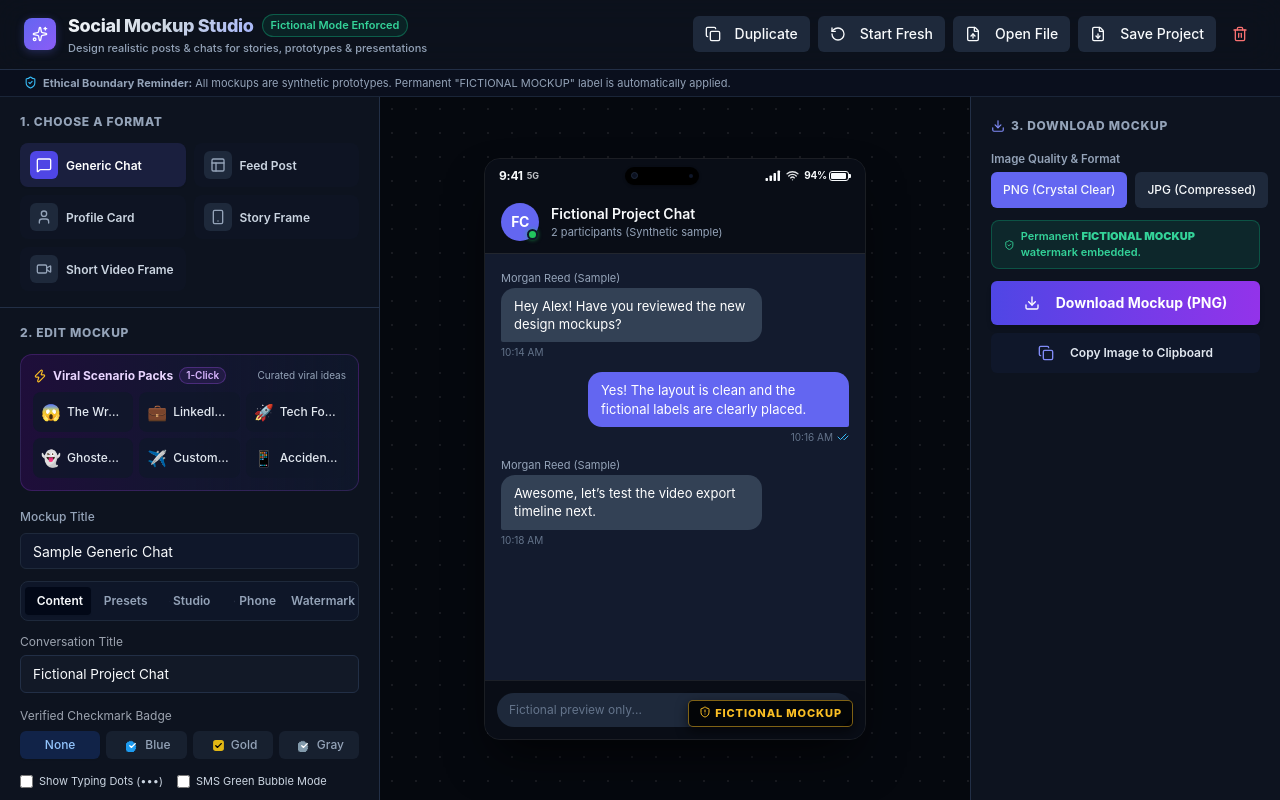
Test: Social Mockup Studio App › switches to Feed Post template in the gallery
The image size is (1280, 800).
Click the button "Feed Post": (276, 165) [194,143,359,187]
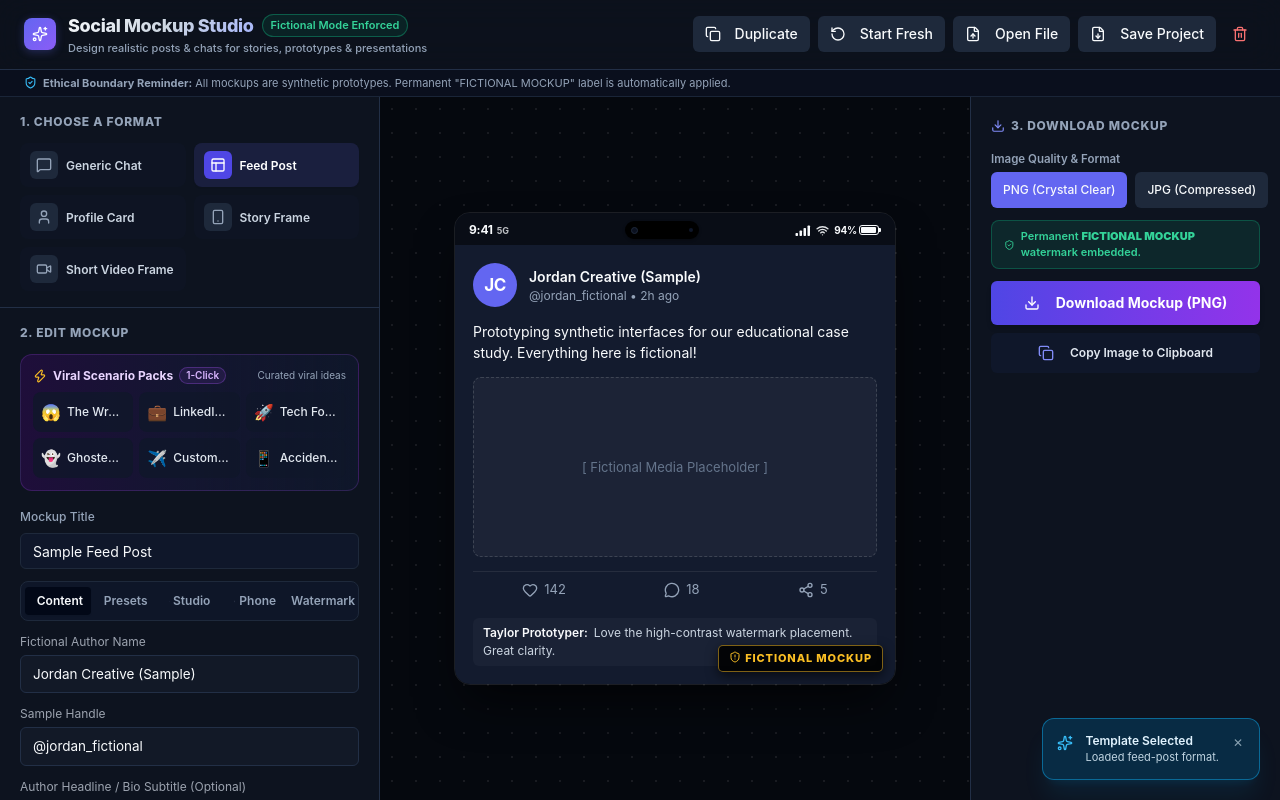
Check: the text "Fictional Author Name" is shown, box [20,634,146,649]
